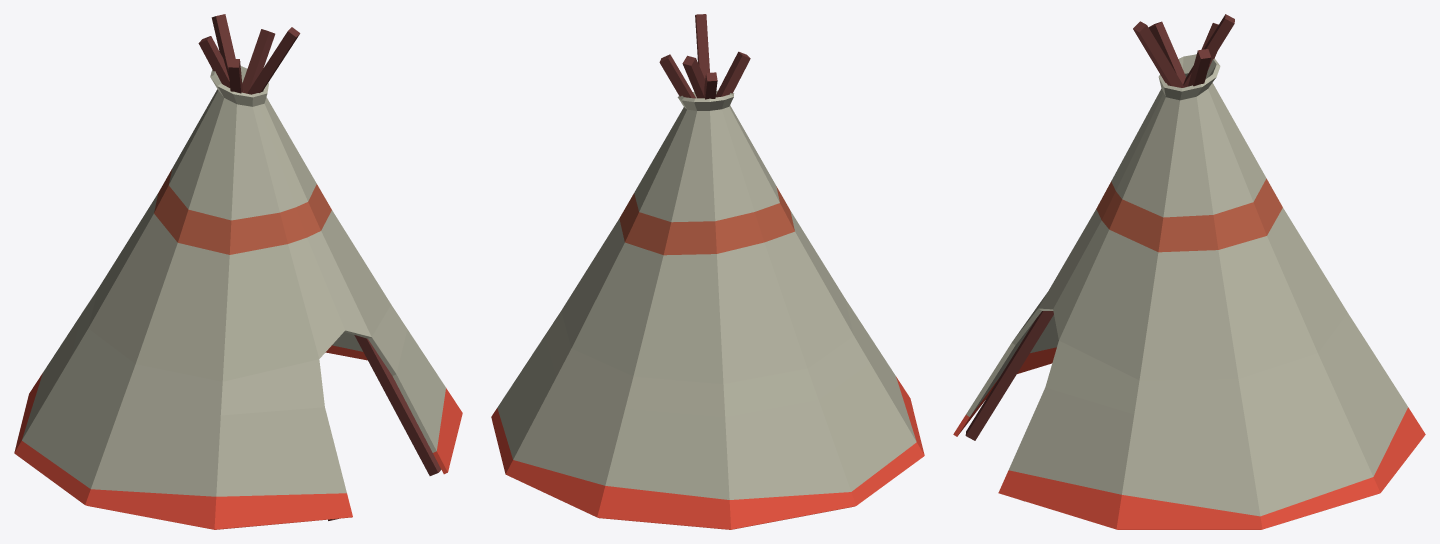
Rendered from nativeTent.glb.
3 renders of one model, left to right at view 1: azimuth 30°, elevation 25°; view 2: azimuth 150°, elevation 25°; view 3: azimuth 270°, elevation 25°, orthographic. The views are drawn at different scales.
Visible parts, largest first — view 1: Cube.006; view 2: Cube.006; view 3: Cube.006.
Boxes of the visible parts, x1,y1,x2,y2 form: Cube.006: (14,14,462,529); Cube.006: (491,14,924,529); Cube.006: (953,14,1425,529).
Bounding box in the file's own units: 7.92 × 8.46 × 8.33.
